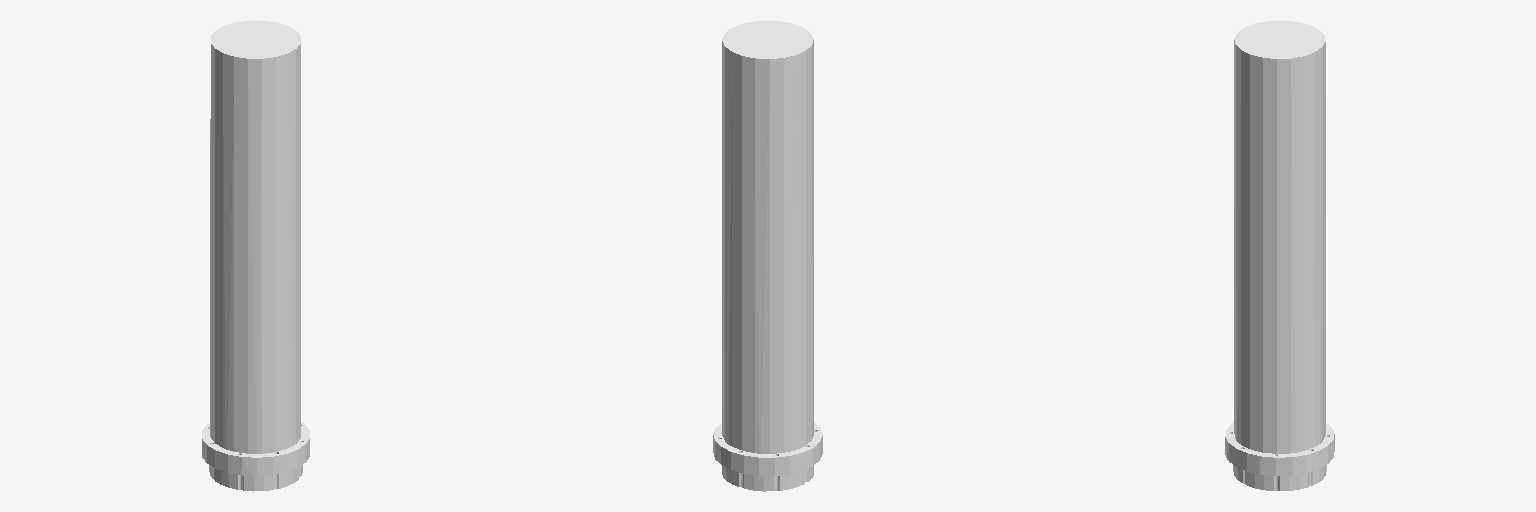
robot.urdf — R_inspire:
<?xml version="1.0" encoding="utf-8"?>

<robot name="R_inspire">

    <link name="world"/>

    <joint name="R_gripper_base_joint" type="fixed">
      <origin
      xyz="0 0 0.03"
      rpy="3.1415926 0 1.5" />
      <parent link="world"/>
      <child link="R_hand_base_link"/>
    </joint>


  <link
    name="R_hand_base_link">
    <inertial>
      <origin
        xyz="-0.0025264 -0.066047 0.0019598"
        rpy="0 0 0" />
      <mass
        value="0.14143" />
      <inertia
        ixx="0.00012281"
        ixy="2.1711E-06"
        ixz="1.7709E-06"
        iyy="8.3832E-05"
        iyz="-1.6551E-06"
        izz="7.6663E-05" />
    </inertial>
    <visual>
      <origin
        xyz="0 0 0"
        rpy="0 0 0" />
      <geometry>
        <mesh
          filename="package://R_inspire_URDF/meshes/base_link.STL" />
      </geometry>
      <material
        name="">
        <color
          rgba="1 1 1 1" />
      </material>
    </visual>
    <collision>
      <origin
        xyz="0 0 0"
        rpy="0 0 0" />
      <geometry>
        <mesh
          filename="package://R_inspire_URDF/meshes/base_link.STL" />
      </geometry>
    </collision>
  </link>
  <link
    name="R_thumb_proximal_base">
    <inertial>
      <origin
        xyz="-0.0048064 0.0009382 -0.00757"
        rpy="0 0 0" />
      <mass
        value="0.0018869" />
      <inertia
        ixx="5.816E-08"
        ixy="1.4539E-08"
        ixz="4.491E-09"
        iyy="7.9161E-08"
        iyz="-1.8727E-09"
        izz="6.7433E-08" />
    </inertial>
    <visual>
      <origin
        xyz="0 0 0"
        rpy="0 0 0" />
      <geometry>
        <mesh
          filename="package://R_inspire_URDF/meshes/Link11.STL" />
      </geometry>
      <material
        name="">
        <color
          rgba="1 1 1 1" />
      </material>
    </visual>
    <collision>
      <origin
        xyz="0 0 0"
        rpy="0 0 0" />
      <geometry>
        <mesh
          filename="package://R_inspire_URDF/meshes/Link11.STL" />
      </geometry>
    </collision>
  </link>
  <joint
    name="R_thumb_proximal_yaw_joint"
    type="revolute">
    <origin
      xyz="-0.01696 -0.0691 -0.02045"
      rpy="1.5708 -1.5708 0" />
    <parent
      link="R_hand_base_link" />
    <child
      link="R_thumb_proximal_base" />
    <axis
      xyz="0 0 -1" />
    <limit
      lower="-0.1"
      upper="1.3"
      effort="1"
      velocity="0.5" />
  </joint>
  <link
    name="R_thumb_proximal">
    <inertial>
      <origin
        xyz="0.021932 0.012785 -0.0080386"
        rpy="0 0 0" />
      <mass
        value="0.0066075" />
      <inertia
        ixx="1.5686E-06"
        ixy="-7.8296E-07"
        ixz="8.9143E-10"
        iyy="1.7353E-06"
        iyz="-1.0191E-09"
        izz="2.786E-06" />
    </inertial>
    <visual>
      <origin
        xyz="0 0 0"
        rpy="0 0 0" />
      <geometry>
        <mesh
          filename="package://R_inspire_URDF/meshes/Link12.STL" />
      </geometry>
      <material
        name="">
        <color
          rgba="1 1 1 1" />
      </material>
    </visual>
    <collision>
      <origin
        xyz="0 0 0"
        rpy="0 0 0" />
      <geometry>
        <mesh
          filename="package://R_inspire_URDF/meshes/Link12.STL" />
      </geometry>
    </collision>
  </link>
  <joint
    name="R_thumb_proximal_pitch_joint"
    type="revolute">
    <origin
      xyz="-0.0088099 0.010892 -0.00925"
      rpy="1.5708 0 2.8587" />
    <parent
      link="R_thumb_proximal_base" />
    <child
      link="R_thumb_proximal" />
    <axis
      xyz="0 0 1" />
    <limit
      lower="-0.1"
      upper="0.6"
      effort="1"
      velocity="0.5" />
  </joint>
  <link
    name="R_thumb_intermediate">
    <inertial>
      <origin
        xyz="0.0095544 -0.0016282 -0.0071997"
        rpy="0 0 0" />
      <mass
        value="0.0037847" />
      <inertia
        ixx="3.6981E-07"
        ixy="-9.8581E-08"
        ixz="-4.7469E-12"
        iyy="3.2394E-07"
        iyz="1.0939E-12"
        izz="4.6531E-07" />
    </inertial>
    <visual>
      <origin
        xyz="0 0 0"
        rpy="0 0 0" />
      <geometry>
        <mesh
          filename="package://R_inspire_URDF/meshes/Link13.STL" />
      </geometry>
      <material
        name="">
        <color
          rgba="1 1 1 1" />
      </material>
    </visual>
    <collision>
      <origin
        xyz="0 0 0"
        rpy="0 0 0" />
      <geometry>
        <mesh
          filename="package://R_inspire_URDF/meshes/Link13.STL" />
      </geometry>
    </collision>
  </link>
  <joint
    name="R_thumb_intermediate_joint"
    type="revolute">
    <origin
      xyz="0.04407 0.034553 -0.0008"
      rpy="0 0 0" />
    <parent
      link="R_thumb_proximal" />
    <child
      link="R_thumb_intermediate" />
    <axis
      xyz="0 0 1" />
    <limit
      lower="0"
      upper="0.8"
      effort="1"
      velocity="0.5" />
    <mimic 
      joint="R_thumb_proximal_pitch_joint"
      multiplier="1.6"
      offset="0" />
  </joint>
  <link
    name="R_thumb_distal">
    <inertial>
      <origin
        xyz="0.0092888 0.0049529 -0.0060033"
        rpy="0 0 0" />
      <mass
        value="0.0033441" />
      <inertia
        ixx="1.3632E-07"
        ixy="-5.6788E-08"
        ixz="-9.2764E-11"
        iyy="1.4052E-07"
        iyz="-1.2283E-10"
        izz="2.0026E-07" />
    </inertial>
    <visual>
      <origin
        xyz="0 0 0"
        rpy="0 0 0" />
      <geometry>
        <mesh
          filename="package://R_inspire_URDF/meshes/Link14.STL" />
      </geometry>
      <material
        name="">
        <color
          rgba="1 1 1 1" />
      </material>
    </visual>
    <collision>
      <origin
        xyz="0 0 0"
        rpy="0 0 0" />
      <geometry>
        <mesh
          filename="package://R_inspire_URDF/meshes/Link14.STL" />
      </geometry>
    </collision>
  </link>
  <joint
    name="R_thumb_distal_joint"
    type="revolute">
    <origin
      xyz="0.020248 0.010156 -0.0012"
      rpy="0 0 0" />
    <parent
      link="R_thumb_intermediate" />
    <child
      link="R_thumb_distal" />
    <axis
      xyz="0 0 1" />
    <limit
      lower="0"
      upper="1.2"
      effort="1"
      velocity="0.5" />
    <mimic 
      joint="R_thumb_proximal_pitch_joint"
      multiplier="2.4"
      offset="0" />
  </joint>
  <link
    name="R_index_proximal">
    <inertial>
      <origin
        xyz="0.0012259 0.011942 -0.0060001"
        rpy="0 0 0" />
      <mass
        value="0.0042403" />
      <inertia
        ixx="6.6232E-07"
        ixy="-1.5775E-08"
        ixz="1.8515E-12"
        iyy="2.1146E-07"
        iyz="-5.0828E-12"
        izz="6.9398E-07" />
    </inertial>
    <visual>
      <origin
        xyz="0 0 0"
        rpy="0 0 0" />
      <geometry>
        <mesh
          filename="package://R_inspire_URDF/meshes/Link15.STL" />
      </geometry>
      <material
        name="">
        <color
          rgba="1 1 1 1" />
      </material>
    </visual>
    <collision>
      <origin
        xyz="0 0 0"
        rpy="0 0 0" />
      <geometry>
        <mesh
          filename="package://R_inspire_URDF/meshes/Link15.STL" />
      </geometry>
    </collision>
  </link>
  <joint
    name="R_index_proximal_joint"
    type="revolute">
    <origin
      xyz="0.00028533 -0.13653 -0.032268"
      rpy="-3.1067 0 0" />
    <parent
      link="R_hand_base_link" />
    <child
      link="R_index_proximal" />
    <axis
      xyz="0 0 1" />
    <limit
      lower="0"
      upper="1.7"
      effort="1"
      velocity="0.5" />
  </joint>
  <link
    name="R_index_intermediate">
    <inertial>
      <origin
        xyz="0.0019697 0.019589 -0.005"
        rpy="0 0 0" />
      <mass
        value="0.0045683" />
      <inertia
        ixx="7.6111E-07"
        ixy="8.7637E-08"
        ixz="-3.7751E-13"
        iyy="9.6076E-08"
        iyz="9.9444E-13"
        izz="7.8179E-07" />
    </inertial>
    <visual>
      <origin
        xyz="0 0 0"
        rpy="0 0 0" />
      <geometry>
        <mesh
          filename="package://R_inspire_URDF/meshes/Link16.STL" />
      </geometry>
      <material
        name="">
        <color
          rgba="1 1 1 1" />
      </material>
    </visual>
    <collision>
      <origin
        xyz="0 0 0"
        rpy="0 0 0" />
      <geometry>
        <mesh
          filename="package://R_inspire_URDF/meshes/Link16.STL" />
      </geometry>
    </collision>
  </link>
  <joint
    name="R_index_intermediate_joint"
    type="revolute">
    <origin
      xyz="-0.0026138 0.032026 -0.001"
      rpy="0 0 0" />
    <parent
      link="R_index_proximal" />
    <child
      link="R_index_intermediate" />
    <axis
      xyz="0 0 1" />
    <limit
      lower="0"
      upper="1.7"
      effort="1"
      velocity="0.5" />
    <mimic 
      joint="R_index_proximal_joint"
      multiplier="1"
      offset="0" />
  </joint>
  <link
    name="R_middle_proximal">
    <inertial>
      <origin
        xyz="0.001297 0.011934 -0.0060001"
        rpy="0 0 0" />
      <mass
        value="0.0042403" />
      <inertia
        ixx="6.6211E-07"
        ixy="-1.8461E-08"
        ixz="1.8002E-12"
        iyy="2.1167E-07"
        iyz="-6.6808E-12"
        izz="6.9397E-07" />
    </inertial>
    <visual>
      <origin
        xyz="0 0 0"
        rpy="0 0 0" />
      <geometry>
        <mesh
          filename="package://R_inspire_URDF/meshes/Link17.STL" />
      </geometry>
      <material
        name="">
        <color
          rgba="1 1 1 1" />
      </material>
    </visual>
    <collision>
      <origin
        xyz="0 0 0"
        rpy="0 0 0" />
      <geometry>
        <mesh
          filename="package://R_inspire_URDF/meshes/Link17.STL" />
      </geometry>
    </collision>
  </link>
  <joint
    name="R_middle_proximal_joint"
    type="revolute">
    <origin
      xyz="0.00028533 -0.1371 -0.01295"
      rpy="-3.1416 0 0" />
    <parent
      link="R_hand_base_link" />
    <child
      link="R_middle_proximal" />
    <axis
      xyz="0 0 1" />
    <limit
      lower="0"
      upper="1.7"
      effort="1"
      velocity="0.5" />
  </joint>
  <link
    name="R_middle_intermediate">
    <inertial>
      <origin
        xyz="0.001921 0.020796 -0.005"
        rpy="0 0 0" />
      <mass
        value="0.0050396" />
      <inertia
        ixx="9.5822E-07"
        ixy="1.1425E-07"
        ixz="-2.4791E-12"
        iyy="1.0646E-07"
        iyz="5.9173E-12"
        izz="9.8384E-07" />
    </inertial>
    <visual>
      <origin
        xyz="0 0 0"
        rpy="0 0 0" />
      <geometry>
        <mesh
          filename="package://R_inspire_URDF/meshes/Link18.STL" />
      </geometry>
      <material
        name="">
        <color
          rgba="1 1 1 1" />
      </material>
    </visual>
    <collision>
      <origin
        xyz="0 0 0"
        rpy="0 0 0" />
      <geometry>
        <mesh
          filename="package://R_inspire_URDF/meshes/Link18.STL" />
      </geometry>
    </collision>
  </link>
  <joint
    name="R_middle_intermediate_joint"
    type="revolute">
    <origin
      xyz="-0.0024229 0.032041 -0.001"
      rpy="0 0 0" />
    <parent
      link="R_middle_proximal" />
    <child
      link="R_middle_intermediate" />
    <axis
      xyz="0 0 1" />
    <limit
      lower="0"
      upper="1.7"
      effort="1"
      velocity="0.5" />
    <mimic 
      joint="R_middle_proximal_joint"
      multiplier="1"
      offset="0" />
  </joint>
  <link
    name="R_ring_proximal">
    <inertial>
      <origin
        xyz="0.001297 0.011934 -0.0060002"
        rpy="0 0 0" />
      <mass
        value="0.0042403" />
      <inertia
        ixx="6.6211E-07"
        ixy="-1.8461E-08"
        ixz="1.5793E-12"
        iyy="2.1167E-07"
        iyz="-6.6868E-12"
        izz="6.9397E-07" />
    </inertial>
    <visual>
      <origin
        xyz="0 0 0"
        rpy="0 0 0" />
      <geometry>
        <mesh
          filename="package://R_inspire_URDF/meshes/Link19.STL" />
      </geometry>
      <material
        name="">
        <color
          rgba="1 1 1 1" />
      </material>
    </visual>
    <collision>
      <origin
        xyz="0 0 0"
        rpy="0 0 0" />
      <geometry>
        <mesh
          filename="package://R_inspire_URDF/meshes/Link19.STL" />
      </geometry>
    </collision>
  </link>
  <joint
    name="R_ring_proximal_joint"
    type="revolute">
    <origin
      xyz="0.00028533 -0.13691 0.0062872"
      rpy="3.0892 0 0" />
    <parent
      link="R_hand_base_link" />
    <child
      link="R_ring_proximal" />
    <axis
      xyz="0 0 1" />
    <limit
      lower="0"
      upper="1.7"
      effort="1"
      velocity="0.5" />
  </joint>
  <link
    name="R_ring_intermediate">
    <inertial>
      <origin
        xyz="0.0021753 0.019567 -0.005"
        rpy="0 0 0" />
      <mass
        value="0.0045683" />
      <inertia
        ixx="7.6286E-07"
        ixy="8.0635E-08"
        ixz="-6.1562E-13"
        iyy="9.431E-08"
        iyz="5.8619E-13"
        izz="7.8177E-07" />
    </inertial>
    <visual>
      <origin
        xyz="0 0 0"
        rpy="0 0 0" />
      <geometry>
        <mesh
          filename="package://R_inspire_URDF/meshes/Link20.STL" />
      </geometry>
      <material
        name="">
        <color
          rgba="1 1 1 1" />
      </material>
    </visual>
    <collision>
      <origin
        xyz="0 0 0"
        rpy="0 0 0" />
      <geometry>
        <mesh
          filename="package://R_inspire_URDF/meshes/Link20.STL" />
      </geometry>
    </collision>
  </link>
  <joint
    name="R_ring_intermediate_joint"
    type="revolute">
    <origin
      xyz="-0.0024229 0.032041 -0.001"
      rpy="0 0 0" />
    <parent
      link="R_ring_proximal" />
    <child
      link="R_ring_intermediate" />
    <axis
      xyz="0 0 1" />
    <limit
      lower="0"
      upper="1.7"
      effort="1"
      velocity="0.5" />
    <mimic 
      joint="R_ring_proximal_joint"
      multiplier="1"
      offset="0" />
  </joint>
  <link
    name="R_pinky_proximal">
    <inertial>
      <origin
        xyz="0.001297 0.011934 -0.0060001"
        rpy="0 0 0" />
      <mass
        value="0.0042403" />
      <inertia
        ixx="6.6211E-07"
        ixy="-1.8461E-08"
        ixz="1.6907E-12"
        iyy="2.1167E-07"
        iyz="-6.9334E-12"
        izz="6.9397E-07" />
    </inertial>
    <visual>
      <origin
        xyz="0 0 0"
        rpy="0 0 0" />
      <geometry>
        <mesh
          filename="package://R_inspire_URDF/meshes/Link21.STL" />
      </geometry>
      <material
        name="">
        <color
          rgba="1 1 1 1" />
      </material>
    </visual>
    <collision>
      <origin
        xyz="0 0 0"
        rpy="0 0 0" />
      <geometry>
        <mesh
          filename="package://R_inspire_URDF/meshes/Link21.STL" />
      </geometry>
    </collision>
  </link>
  <joint
    name="R_pinky_proximal_joint"
    type="revolute">
    <origin
      xyz="0.00028533 -0.13571 0.025488"
      rpy="3.0369 0 0" />
    <parent
      link="R_hand_base_link" />
    <child
      link="R_pinky_proximal" />
    <axis
      xyz="0 0 1" />
    <limit
      lower="0"
      upper="1.7"
      effort="1"
      velocity="0.5" />
  </joint>
  <link
    name="R_pinky_intermediate">
    <inertial>
      <origin
        xyz="0.0024748 0.016203 -0.0050031"
        rpy="0 0 0" />
      <mass
        value="0.0035996" />
      <inertia
        ixx="4.3913E-07"
        ixy="4.1418E-08"
        ixz="3.7168E-11"
        iyy="7.0247E-08"
        iyz="5.8613E-11"
        izz="4.4867E-07" />
    </inertial>
    <visual>
      <origin
        xyz="0 0 0"
        rpy="0 0 0" />
      <geometry>
        <mesh
          filename="package://R_inspire_URDF/meshes/Link22.STL" />
      </geometry>
      <material
        name="">
        <color
          rgba="1 1 1 1" />
      </material>
    </visual>
    <collision>
      <origin
        xyz="0 0 0"
        rpy="0 0 0" />
      <geometry>
        <mesh
          filename="package://R_inspire_URDF/meshes/Link22.STL" />
      </geometry>
    </collision>
  </link>
  <joint
    name="R_pinky_intermediate_joint"
    type="revolute">
    <origin
      xyz="-0.0024229 0.032041 -0.001"
      rpy="0 0 0" />
    <parent
      link="R_pinky_proximal" />
    <child
      link="R_pinky_intermediate" />
    <axis
      xyz="0 0 1" />
    <limit
      lower="0"
      upper="1.7"
      effort="1"
      velocity="0.5" />
    <mimic 
      joint="R_pinky_proximal_joint"
      multiplier="1"
      offset="0" />
  </joint>
</robot>

--- What the picture shows (computed from the rendered views, not written in the file) ---
Views: 3 orthographic renders of the robot side by side, from view 1: azimuth 30°, elevation 25°; view 2: azimuth 150°, elevation 25°; view 3: azimuth 270°, elevation 25°.
Model R_inspire with 14 links and 13 joints (12 revolute, 1 fixed), rooted at world, posed all joints at 0.
Links seen in each view (by area): view 1: R_hand_base_link; view 2: R_hand_base_link; view 3: R_hand_base_link.
Boxes of the visible links, x1,y1,x2,y2 form: R_hand_base_link: (202, 20, 309, 491); R_hand_base_link: (713, 20, 822, 491); R_hand_base_link: (1225, 21, 1334, 490).
Bounding box of the posed robot: 0.1347 × 0.1347 × 0.5875 m (x, y, z).
1 mesh visuals loaded from 13 distinct referenced files (1 binary STL); not drawn: 12 (reference not matched to a file when rendering).